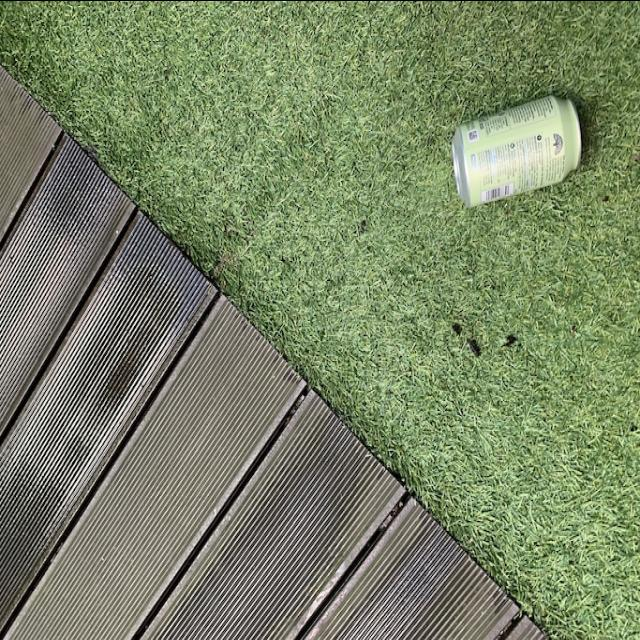Aluminum Can: (451, 89, 584, 211)
